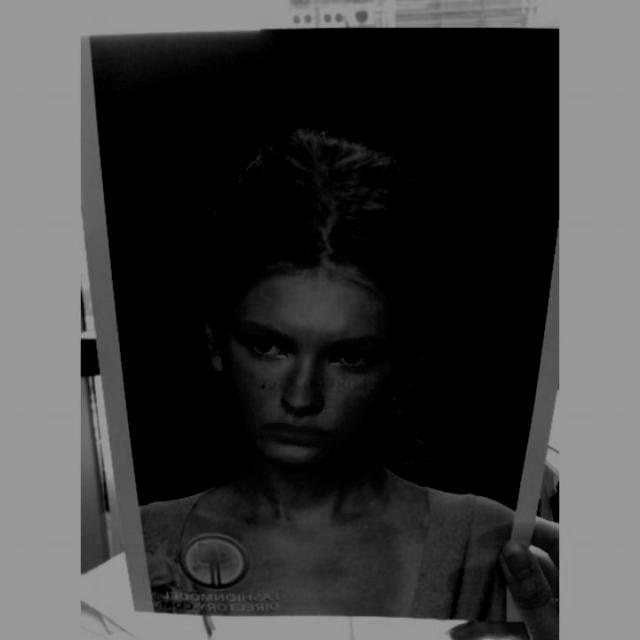fake: (82, 18, 560, 636)
